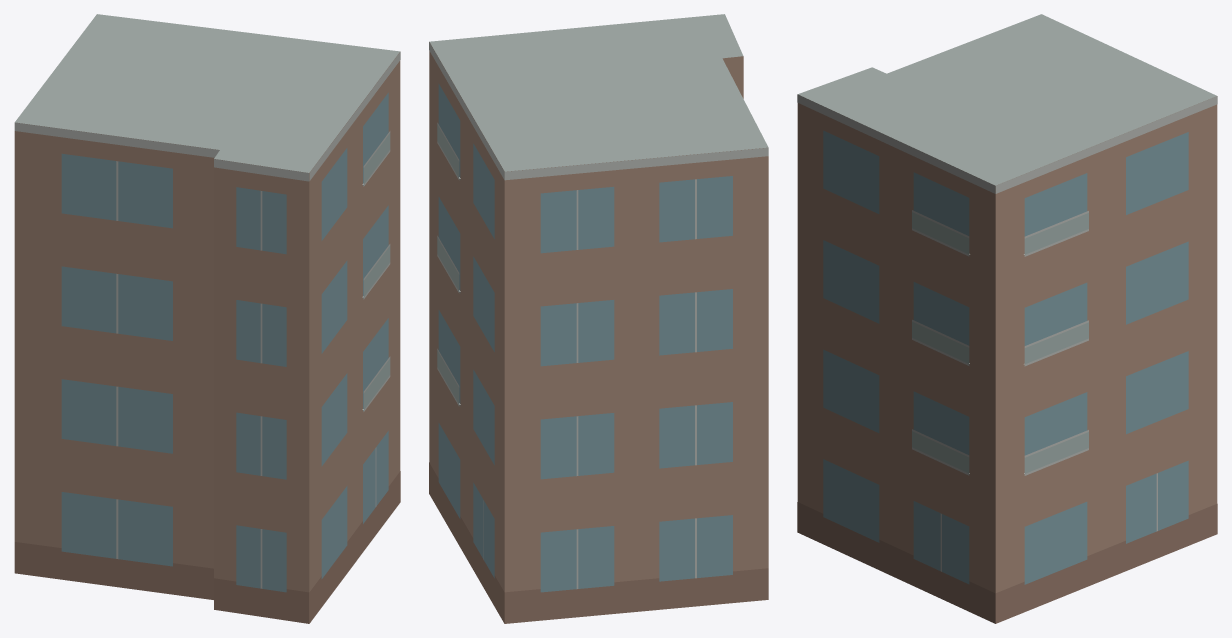
Rendered from survey-upis-32892336.glb.
3 renders of one model, left to right at view 1: azimuth 30°, elevation 25°; view 2: azimuth 150°, elevation 25°; view 3: azimuth 270°, elevation 25°, orthographic. The views are drawn at different scales.
Visible parts, largest first — view 1: survey-upis-32892336.tmp; view 2: survey-upis-32892336.tmp; view 3: survey-upis-32892336.tmp.
Boxes of the visible parts, bbox=[...] form: survey-upis-32892336.tmp: bbox=[14, 14, 400, 623]; survey-upis-32892336.tmp: bbox=[429, 14, 768, 623]; survey-upis-32892336.tmp: bbox=[797, 14, 1217, 623].
Size of the model in its own units: 10.76 by 12.8 by 11.12.
